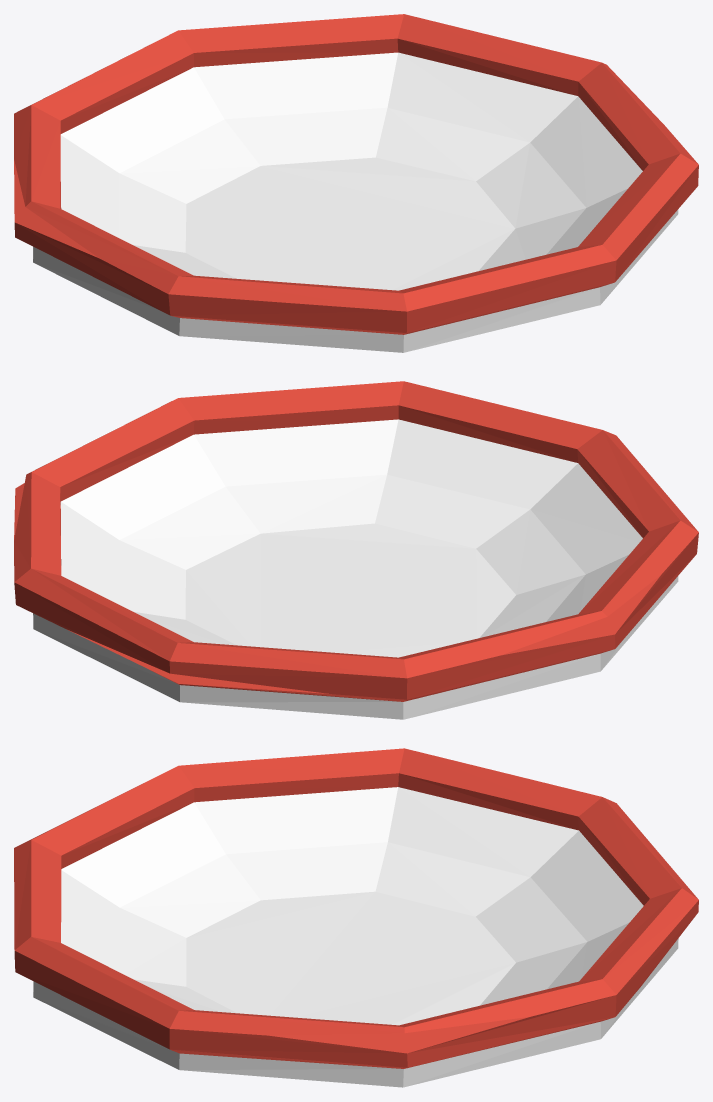
File: SFI_Cup_Plate_004.fbx
The picture shows the model from 3 angles, top to bottom: view 1: azimuth 30°, elevation 25°; view 2: azimuth 150°, elevation 25°; view 3: azimuth 270°, elevation 25°; orthographic projection.
Parts seen in each view (by area): view 1: SFI_Cup_Plate_004; view 2: SFI_Cup_Plate_004; view 3: SFI_Cup_Plate_004.
Part boxes in pixels (x1,y1,x2,y2): SFI_Cup_Plate_004: (14,14,698,352); SFI_Cup_Plate_004: (14,381,698,719); SFI_Cup_Plate_004: (14,748,698,1087).
Size of the model in its own units: 17.84 by 2.28 by 17.62.
